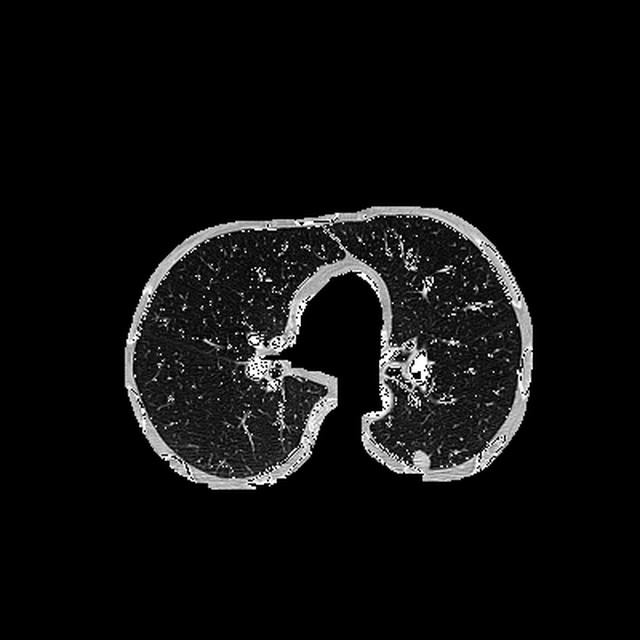PN: (411, 450, 430, 469)
